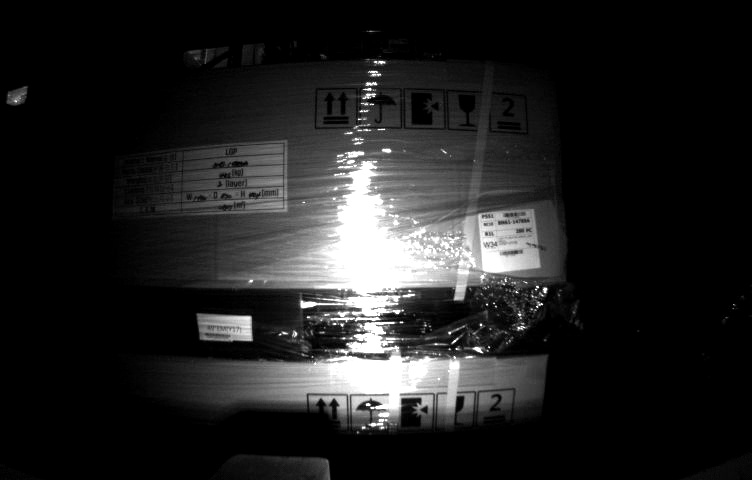True Barcode: (477, 199, 541, 280)
